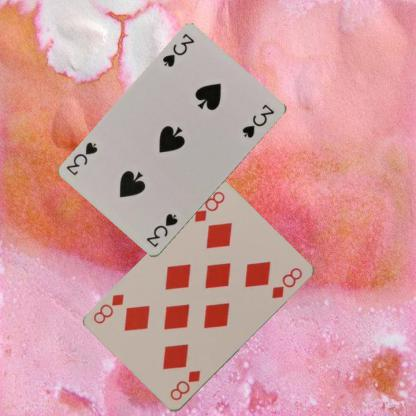3s: (159, 30, 196, 68), (144, 211, 179, 249)
8d: (167, 368, 202, 402), (192, 189, 226, 224)
